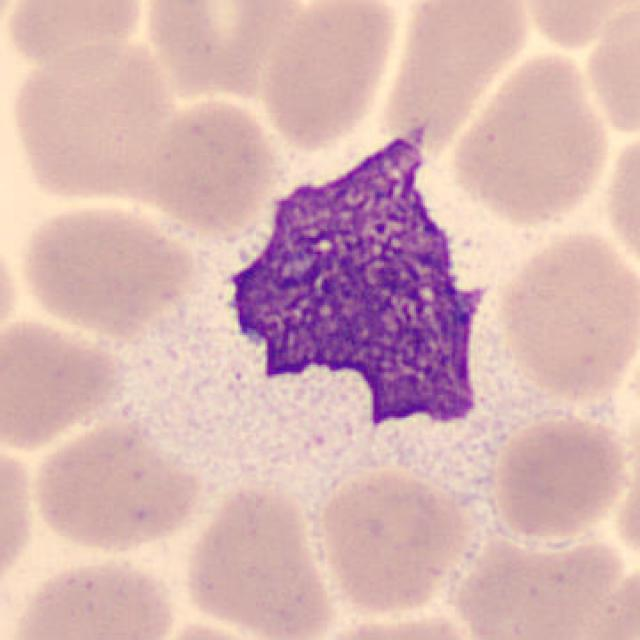Basophil: (210, 116, 496, 446)
RBC: (448, 48, 613, 228), (7, 35, 176, 205), (309, 466, 480, 616), (496, 225, 638, 404), (16, 198, 197, 338), (27, 416, 206, 557), (180, 480, 338, 638), (212, 347, 388, 485), (254, 0, 400, 150), (448, 529, 636, 640), (138, 93, 282, 234), (489, 407, 633, 545), (357, 379, 514, 497), (0, 312, 126, 451), (139, 0, 304, 99), (3, 552, 180, 640), (0, 0, 149, 70), (582, 2, 638, 143), (304, 601, 478, 640), (0, 435, 39, 605), (514, 0, 638, 53), (599, 125, 640, 284), (610, 434, 640, 570), (0, 222, 23, 360), (137, 619, 284, 640)
